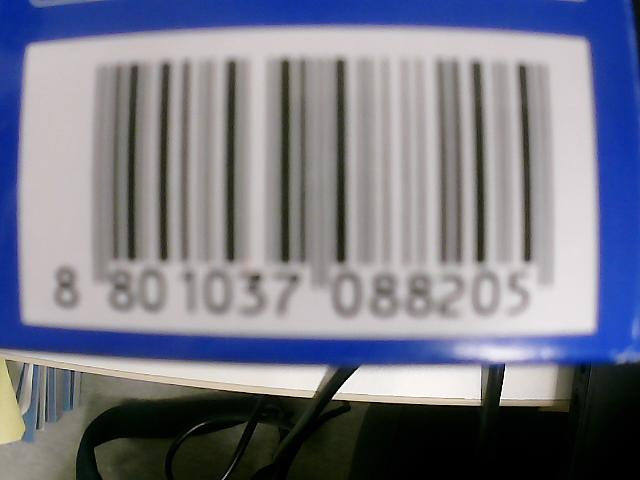kuandku-2000-2024-11-08: (48, 65, 574, 321)
